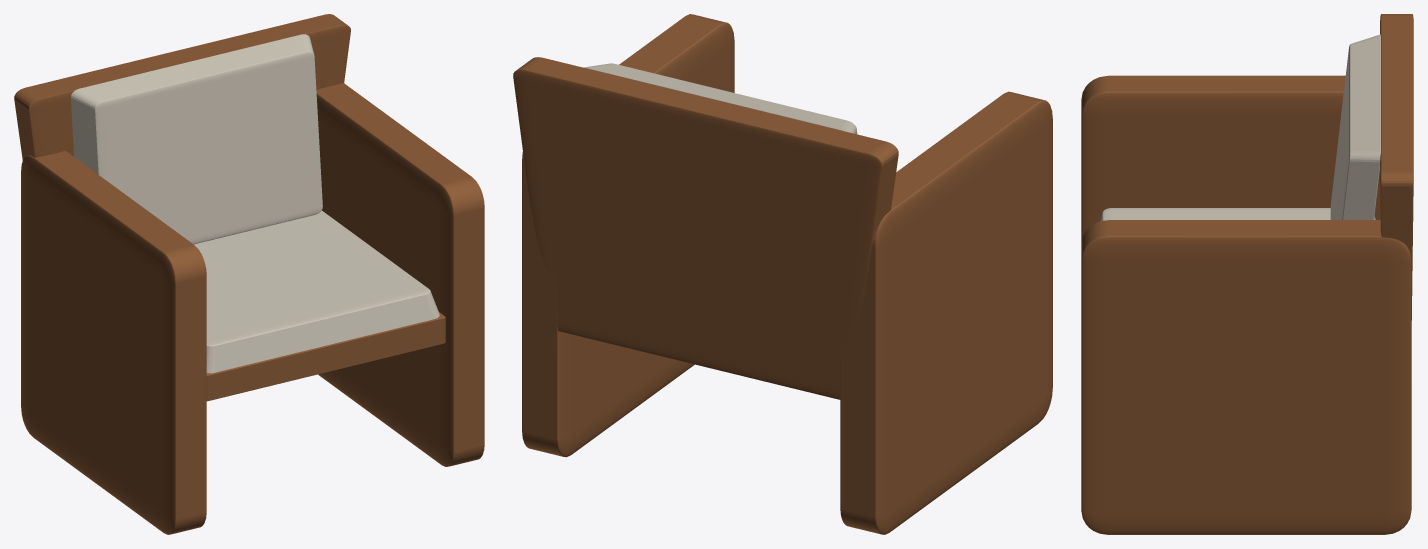
The model's file is forma-chair1.glb.
3 renders of one model, left to right at view 1: azimuth 30°, elevation 25°; view 2: azimuth 150°, elevation 25°; view 3: azimuth 270°, elevation 25°, orthographic. The views are drawn at different scales.
Visible parts, largest first — view 1: box.2, box.6, box, box.5, box.4, box.3; view 2: box.4, box.2, box, box.6; view 3: box, box.2, box.4, box.6, box.5.
Part boxes in pixels (<box>): box.2: <box>21,151,206,534</box>; box.6: <box>70,34,322,244</box>; box: <box>316,83,484,466</box>; box.5: <box>194,210,439,373</box>; box.4: <box>14,14,350,160</box>; box.3: <box>206,312,445,401</box>; box.4: <box>513,57,898,399</box>; box.2: <box>840,91,1052,534</box>; box: <box>522,14,734,457</box>; box.6: <box>584,63,857,134</box>; box: <box>1081,220,1411,534</box>; box.2: <box>1081,75,1380,242</box>; box.4: <box>1380,14,1413,320</box>; box.6: <box>1330,34,1380,219</box>; box.5: <box>1100,208,1375,221</box>.
Bounding box in the file's own units: 0.9589 × 0.9673 × 0.8054.
